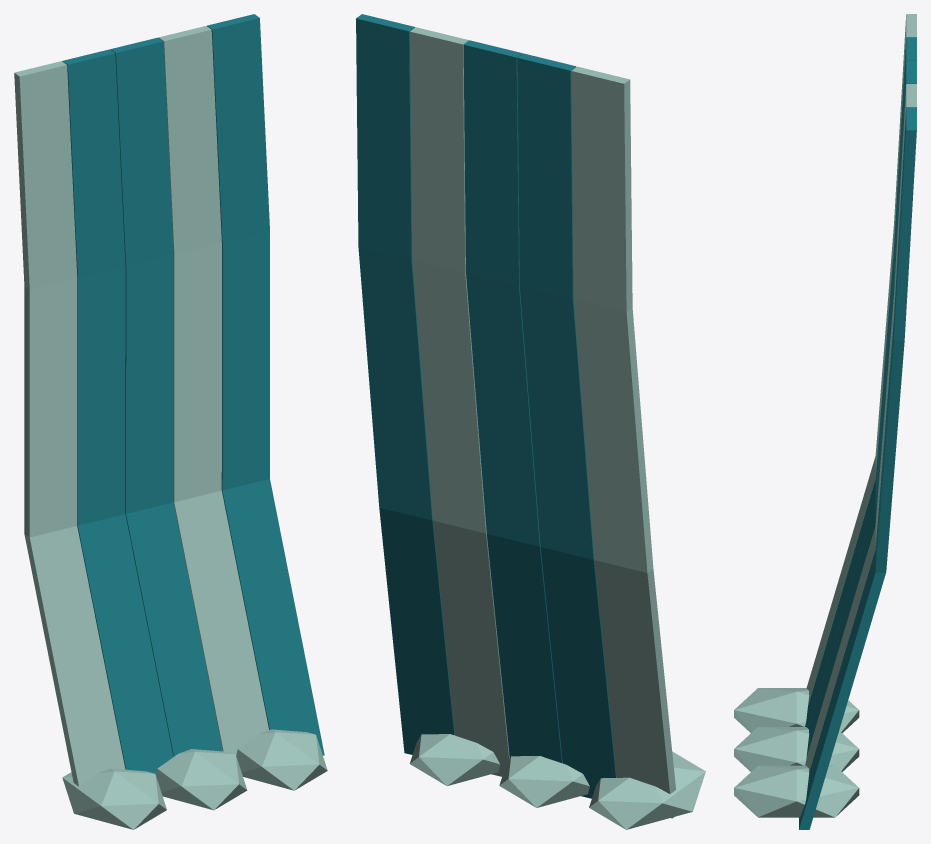
File: PirateCove_WaterfallCurtain_Standard.glb
3 views of the same model, side by side, from view 1: azimuth 30°, elevation 25°; view 2: azimuth 150°, elevation 25°; view 3: azimuth 270°, elevation 25° (orthographic). The views are drawn at different scales.
Parts seen in each view (by area): view 1: PirateCove_WaterfallCurtain_Standard; view 2: PirateCove_WaterfallCurtain_Standard; view 3: PirateCove_WaterfallCurtain_Standard.
Boxes of the visible parts, <box> form: PirateCove_WaterfallCurtain_Standard: <box>14,14,327,829</box>; PirateCove_WaterfallCurtain_Standard: <box>356,14,705,829</box>; PirateCove_WaterfallCurtain_Standard: <box>734,14,916,829</box>.
Bounding box in the file's own units: 1.92 × 5.06 × 1.19.
